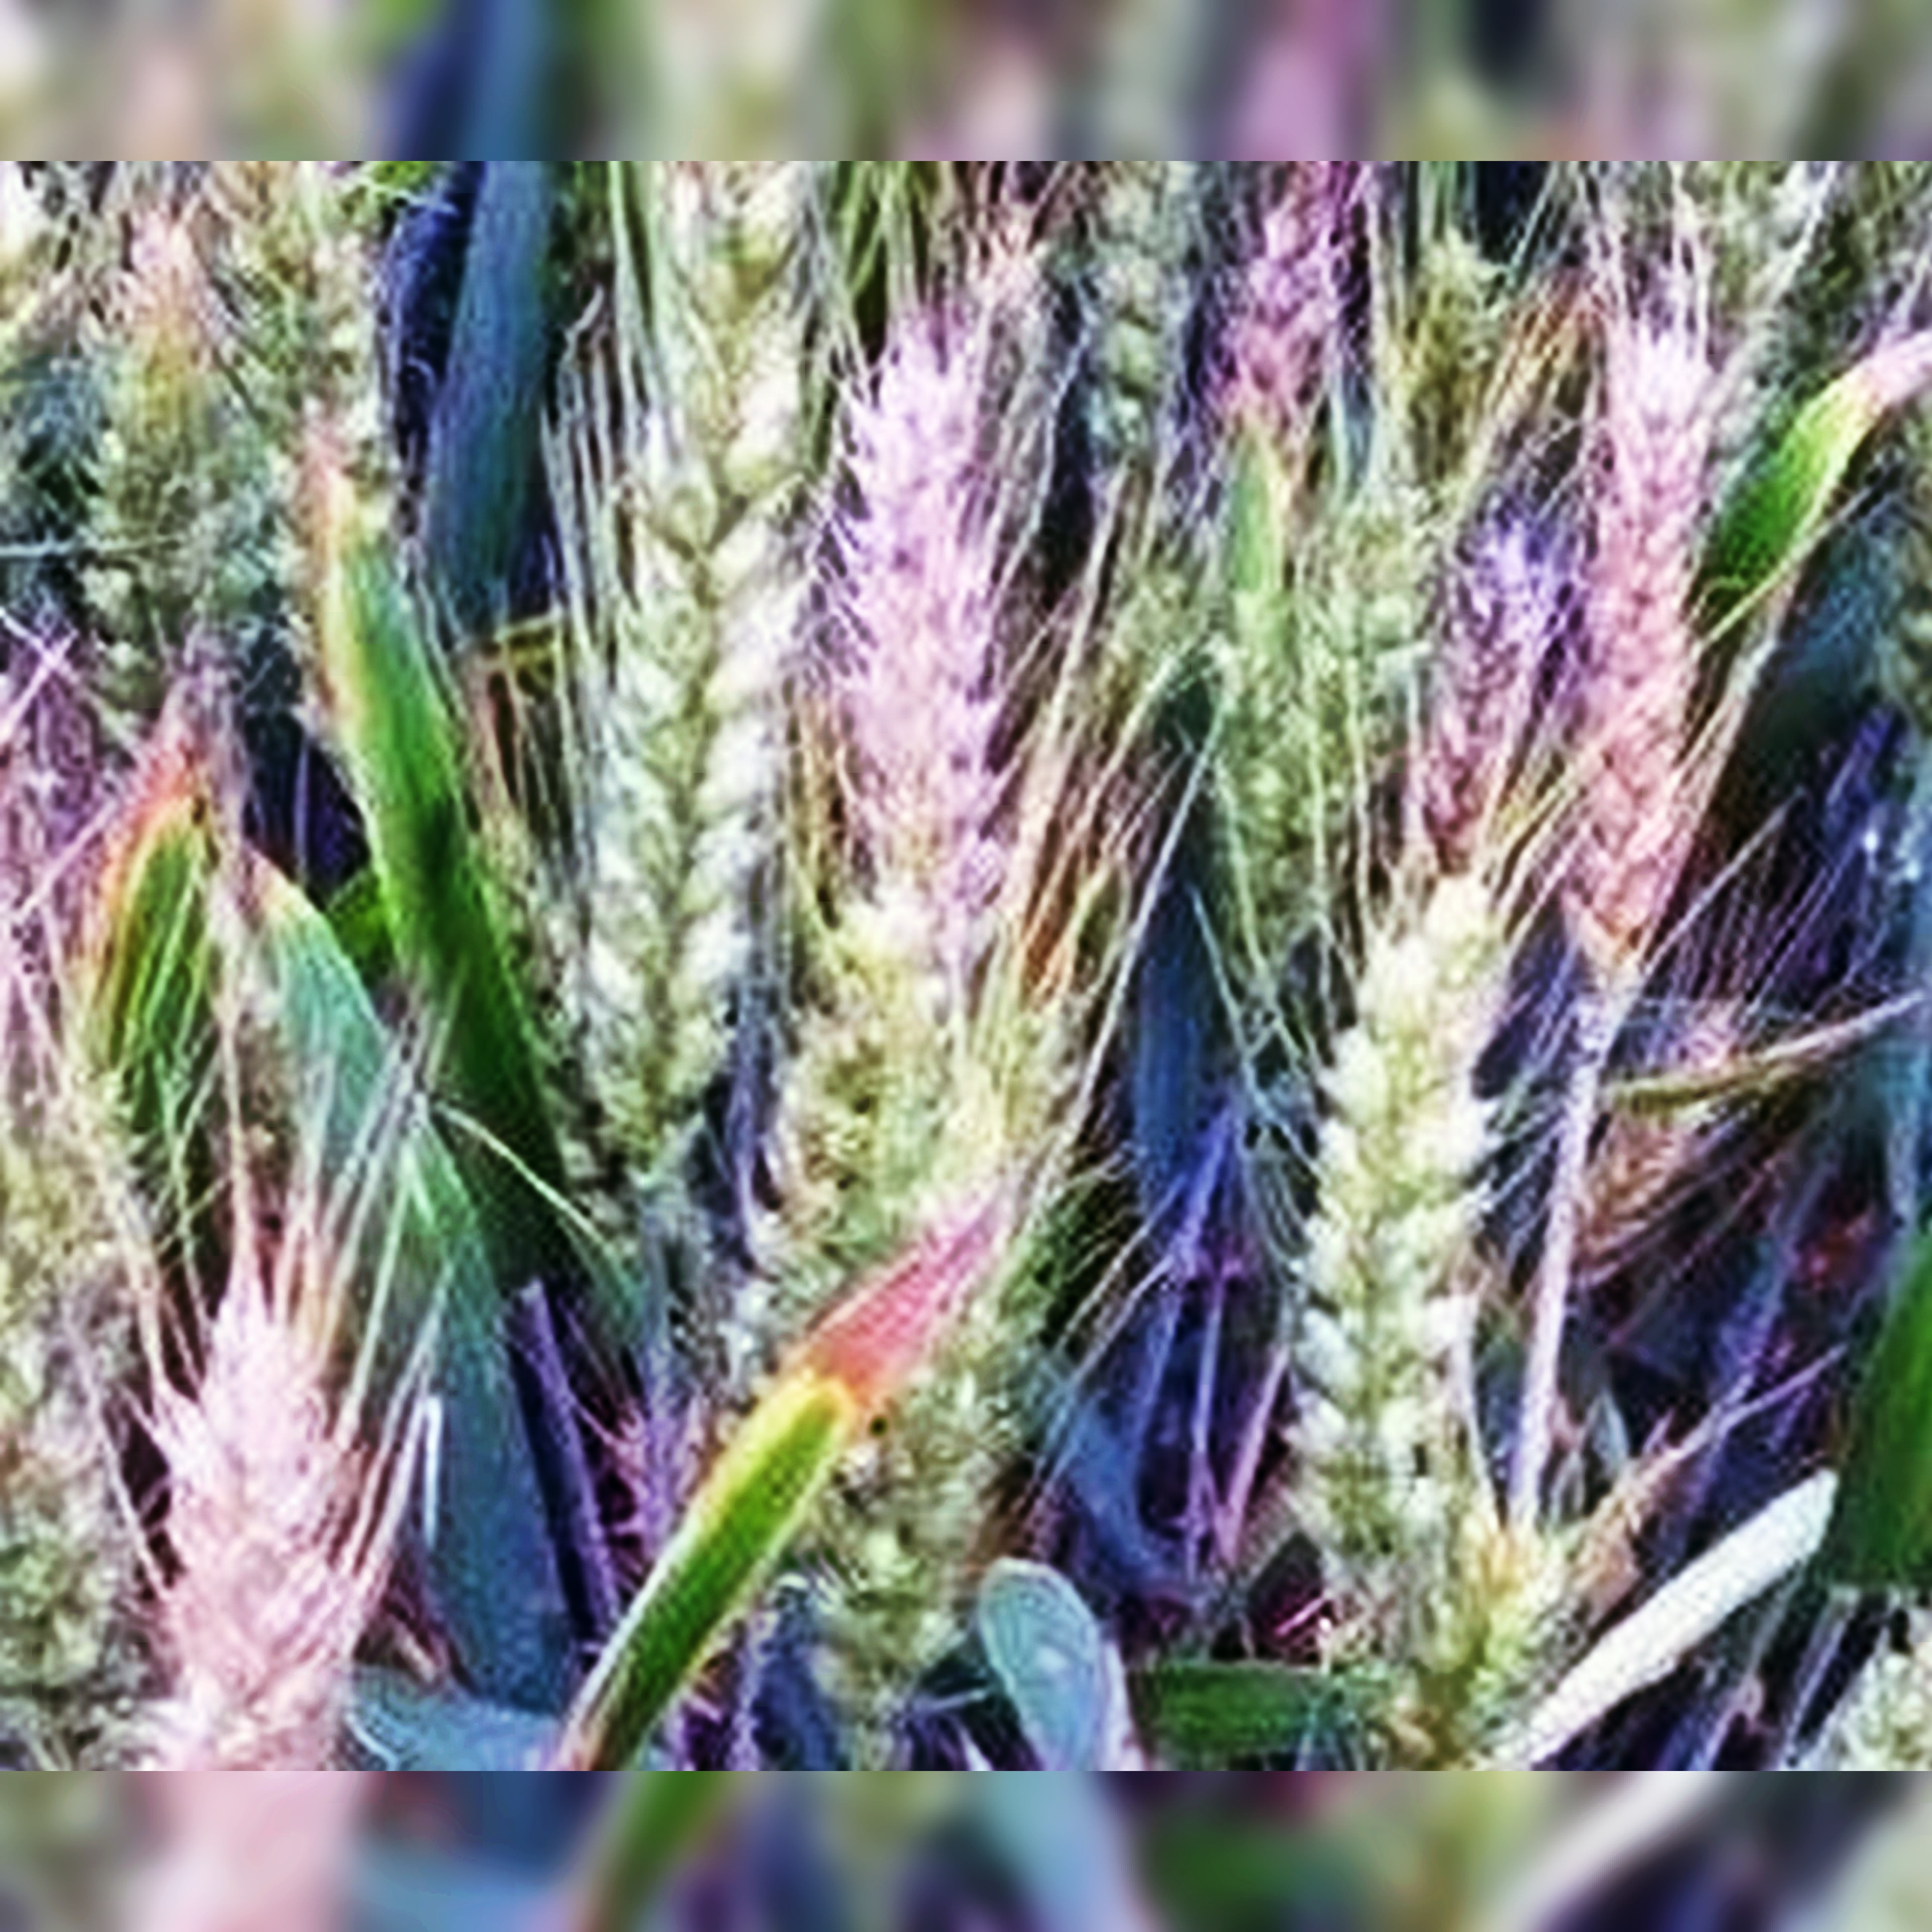Wheat scab: (1559, 317, 1716, 985)
